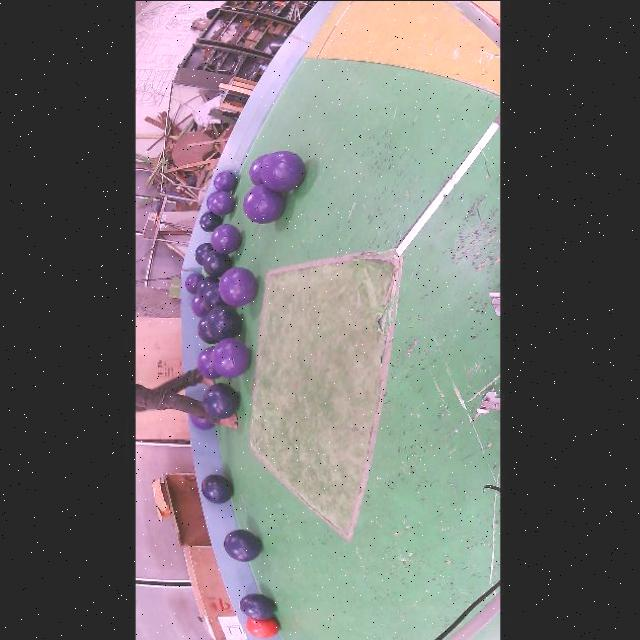B: (203, 382, 239, 418), (205, 305, 241, 339), (224, 529, 261, 561), (239, 592, 275, 619), (202, 473, 233, 503), (203, 249, 232, 276), (203, 281, 227, 310), (198, 315, 219, 344), (200, 210, 222, 232), (195, 242, 213, 265)
P: (261, 149, 305, 191), (210, 337, 250, 377), (243, 184, 284, 223), (218, 266, 257, 306), (210, 223, 241, 253), (196, 346, 221, 378), (207, 190, 236, 215), (250, 153, 269, 185), (214, 170, 237, 191), (185, 272, 204, 294), (190, 294, 208, 316)
R: (245, 616, 279, 638)
